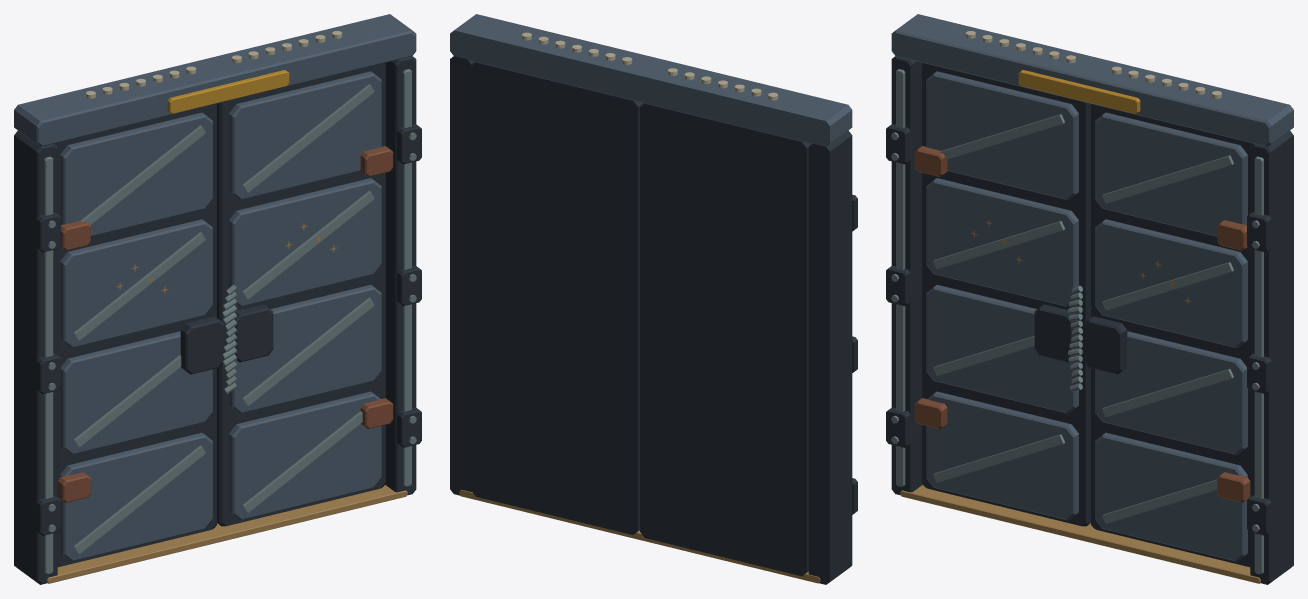
Rendered from A-13_well_gate.glb.
3 views of the same model, side by side, from view 1: azimuth 30°, elevation 25°; view 2: azimuth 150°, elevation 25°; view 3: azimuth 330°, elevation 25° (orthographic).
Parts seen in each view (by area): view 1: A-13_well_gate; view 2: A-13_well_gate; view 3: A-13_well_gate.
Boxes of the visible parts, bbox=[...] form: A-13_well_gate: bbox=[14, 14, 421, 584]; A-13_well_gate: bbox=[450, 14, 857, 584]; A-13_well_gate: bbox=[886, 14, 1293, 584].
Size of the model in its own units: 2.17 by 2.54 by 0.297.
